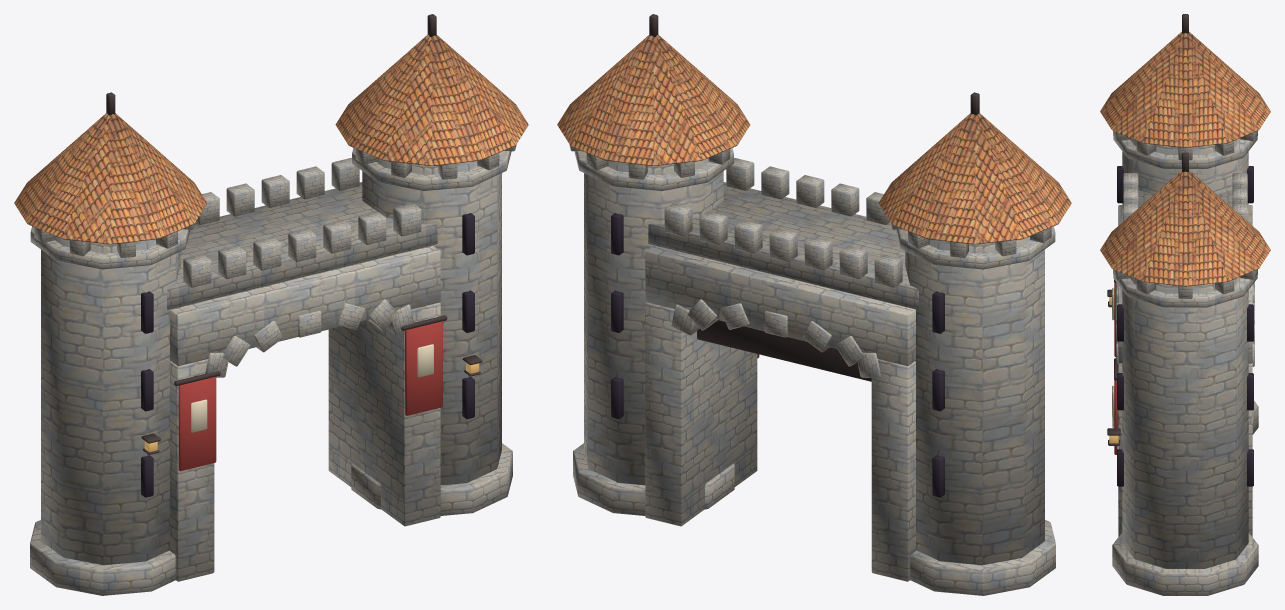
File: gatehouse.gltf
3 views of the same model, side by side, from view 1: azimuth 30°, elevation 25°; view 2: azimuth 150°, elevation 25°; view 3: azimuth 270°, elevation 25° (orthographic). The views are drawn at different scales.
Parts seen in each view (by area): view 1: gatehouse; view 2: gatehouse; view 3: gatehouse.
Part boxes in pixels (x1,y1,x2,y2): gatehouse: (14, 14, 528, 595); gatehouse: (557, 14, 1071, 595); gatehouse: (1100, 14, 1270, 595).
Bounding box in the file's own units: 11.87 × 10.85 × 4.07.
4 materials, 4 textured.
